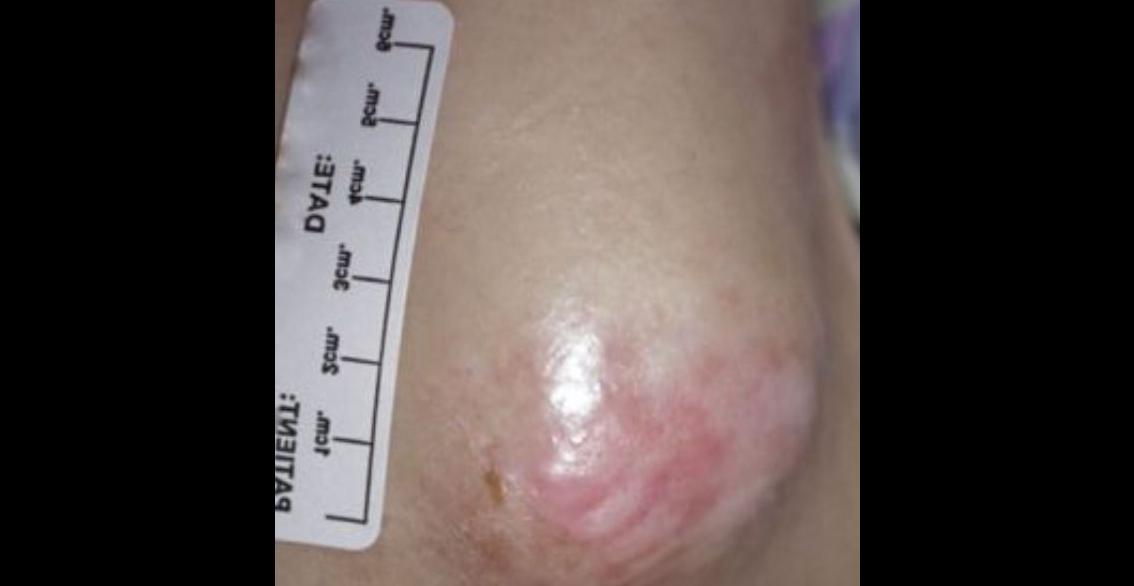Stage1: (427, 173, 820, 586)
